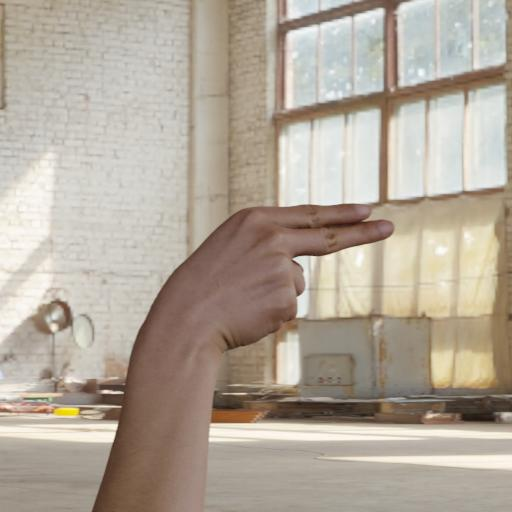H: (132, 182, 413, 394)
